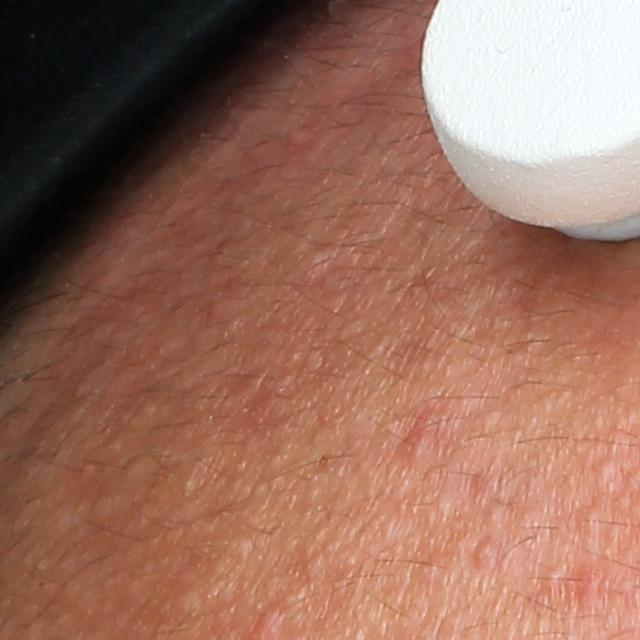comedo: (576, 501, 610, 536), (470, 535, 500, 570), (590, 452, 621, 485), (122, 448, 152, 480), (429, 492, 457, 524), (224, 534, 257, 560), (175, 587, 206, 614)
papule: (402, 421, 437, 457)
